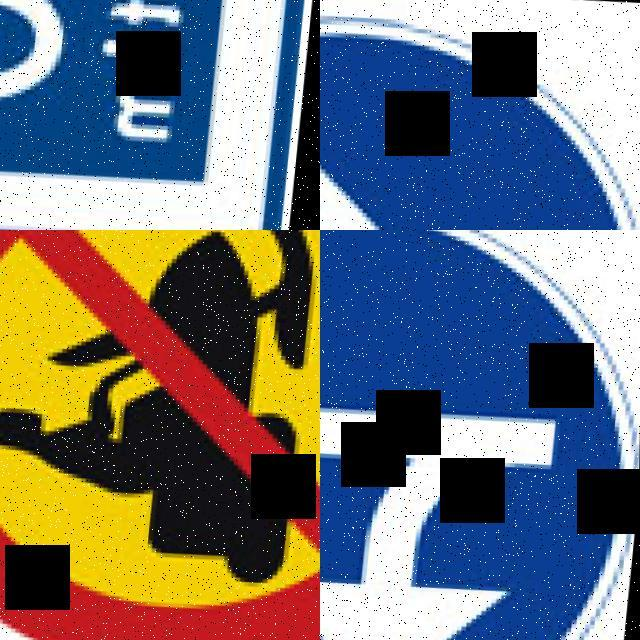47: (0, 230, 320, 640)
94: (320, 230, 640, 640)
No snowmobiles: (0, 230, 320, 640)
Turn left: (320, 0, 640, 230)
end of the speed limit: (0, 0, 320, 230)
